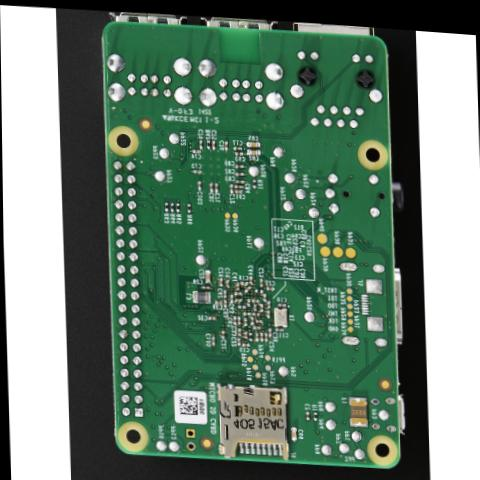Raspberry-Pi-1-Model-B-: (94, 5, 417, 478)
